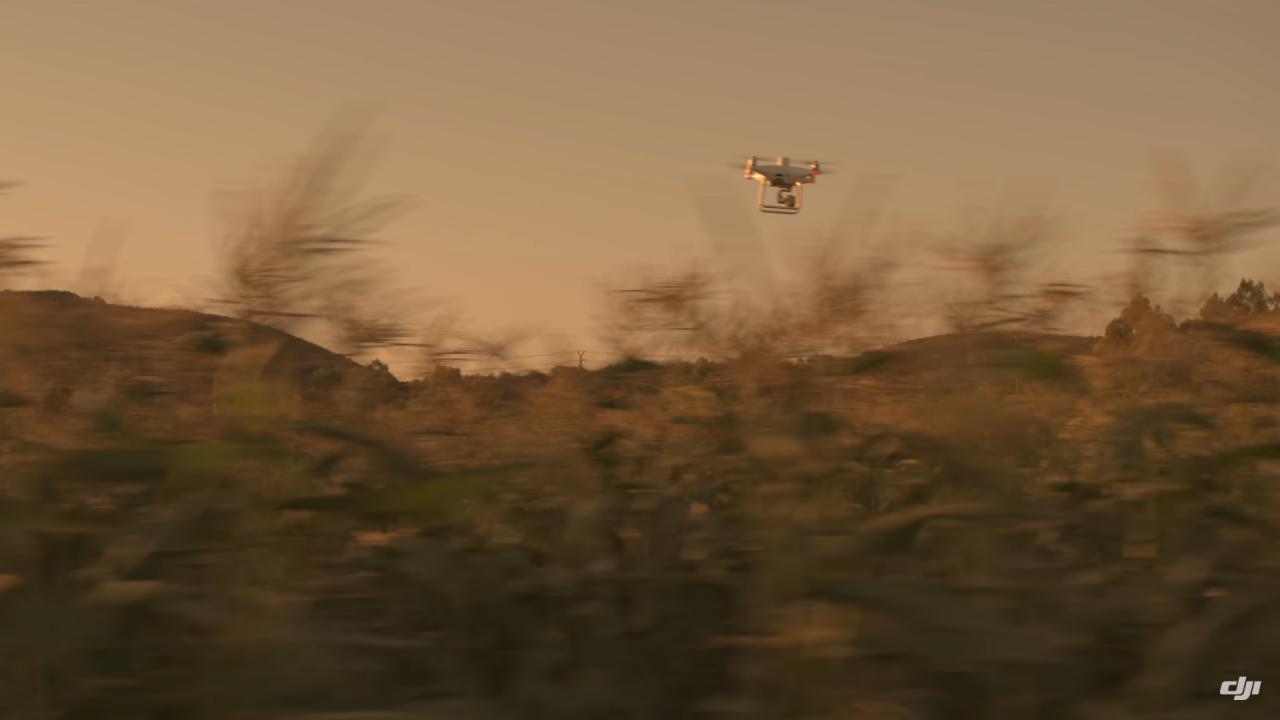Drone: (724, 145, 846, 226)
